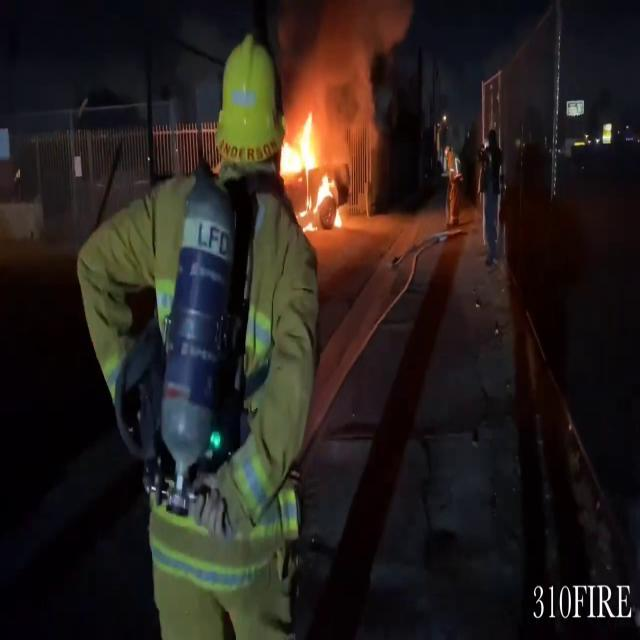Fire: (278, 103, 342, 229)
Smoke: (288, 1, 418, 122)
